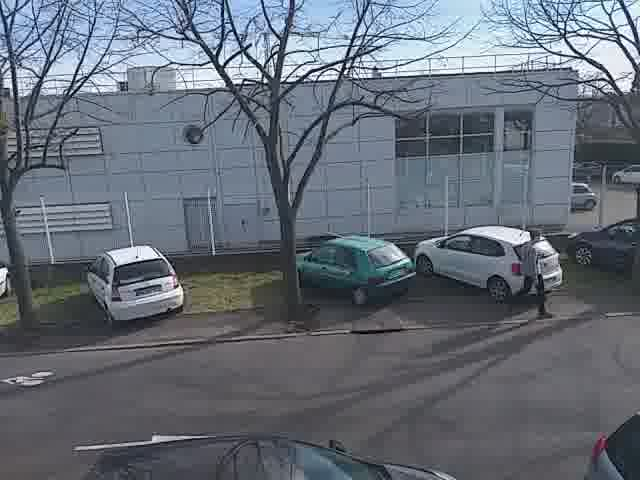persona: (506, 228, 557, 318)
